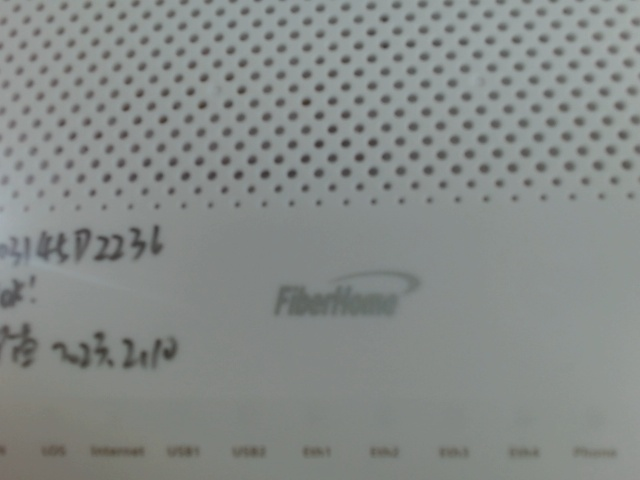AI_FiberHome: (266, 261, 427, 331)
